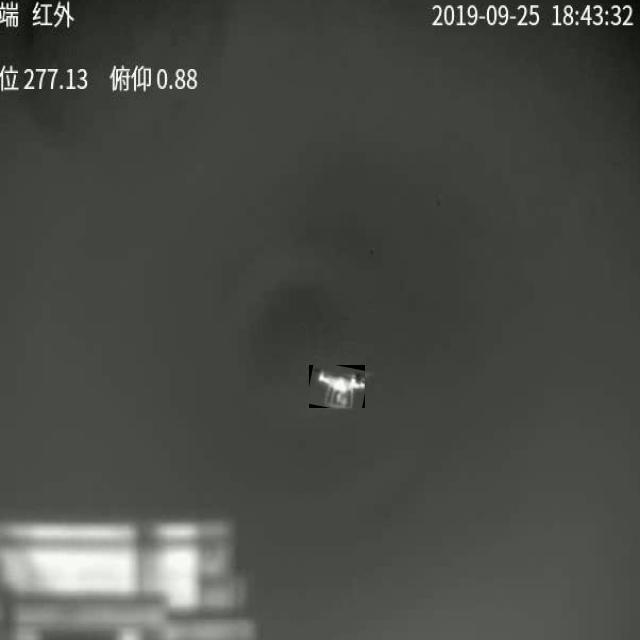drone: (313, 367, 365, 408)
